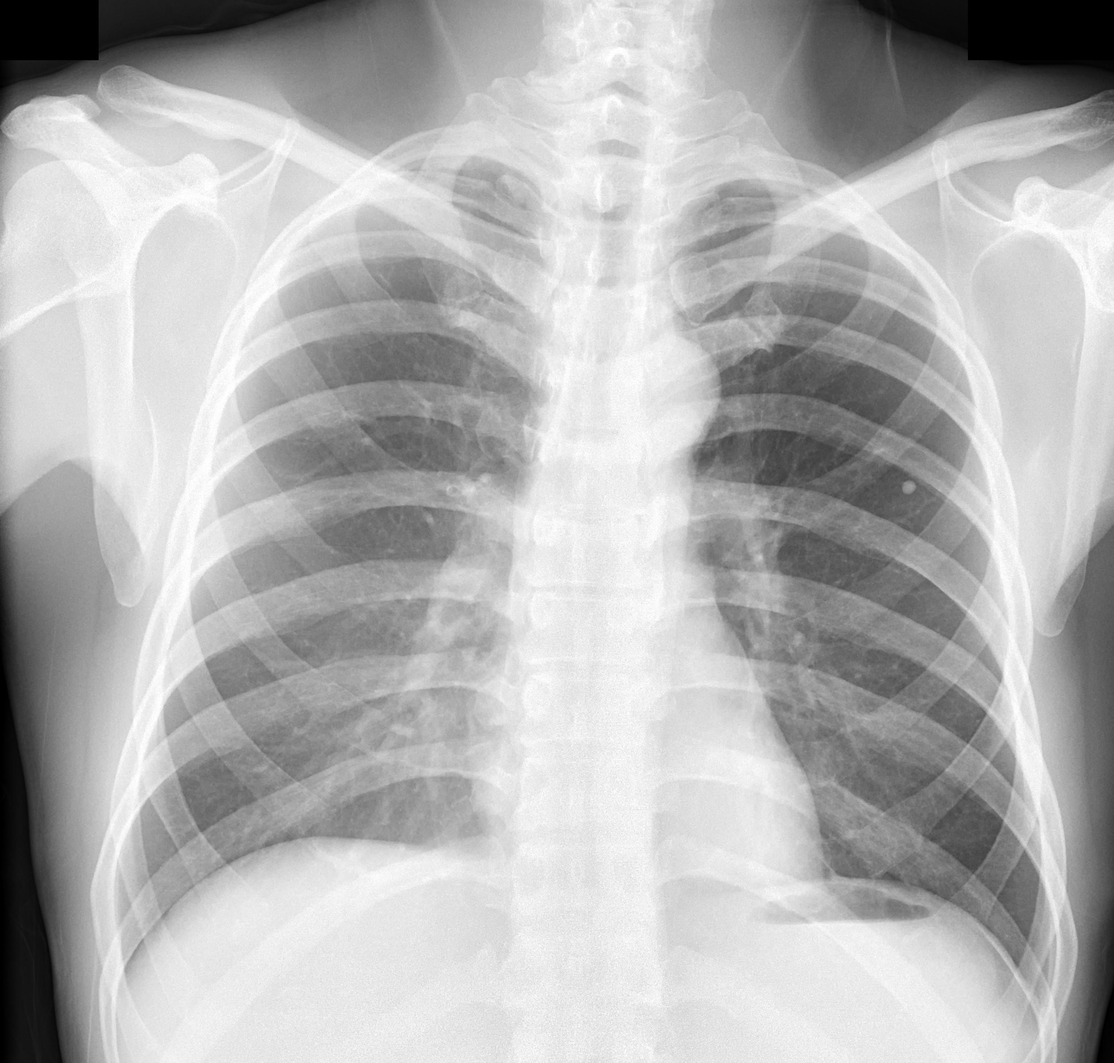Aortic enlargement: (615, 330, 717, 458)
